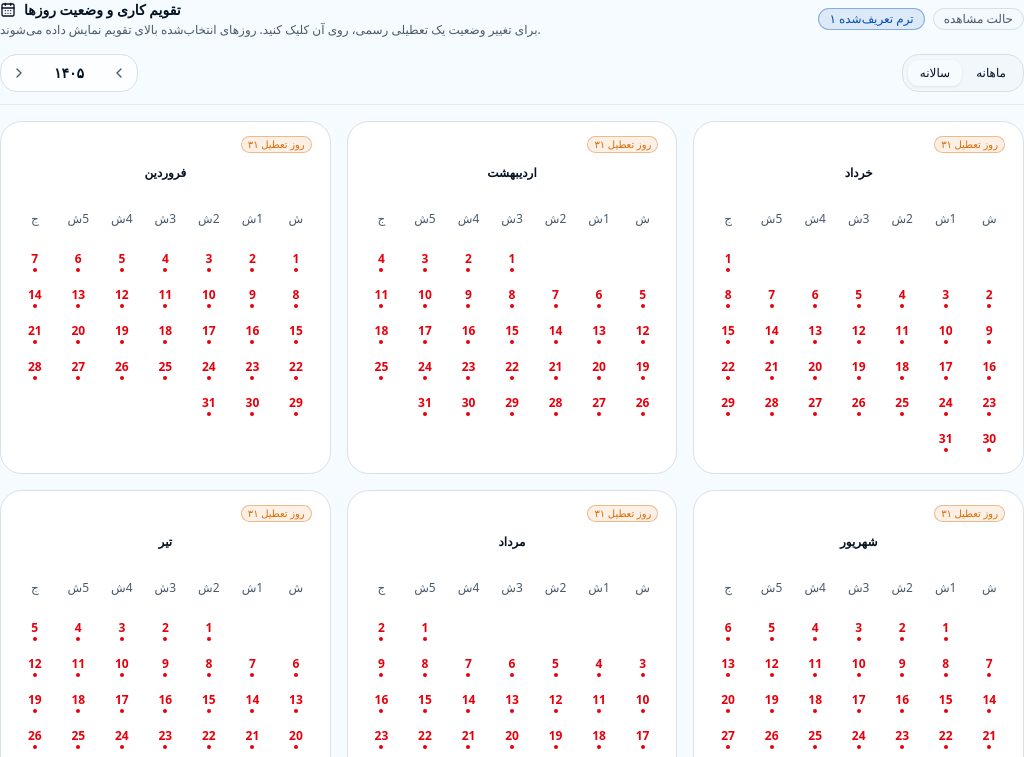
Test: HolidaysCalendar Component › opens day details modal on day click instead of editing off-days
The image size is (1024, 757).
What coordinates should you click on to do the following:
click the button "1" below "فروردین"
I would click on:
 (296, 259)
Its box is top-left (280, 243), bottom-right (312, 275).
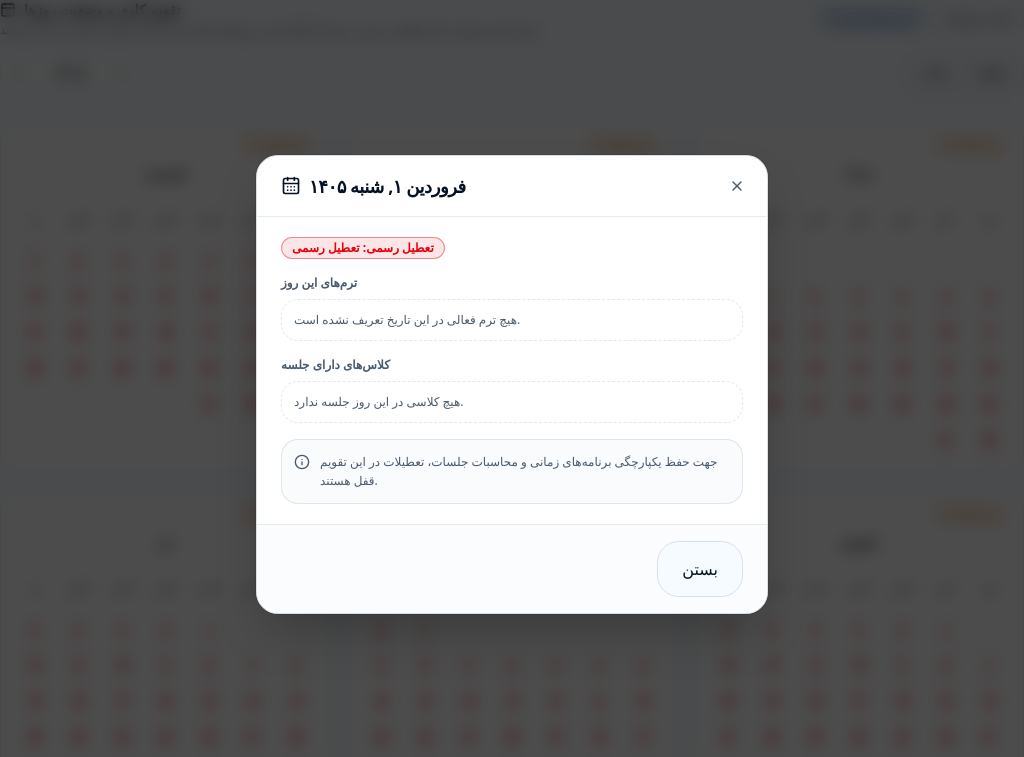
Expected: the text "ترم‌های این روز" is shown, top-left (281, 274), bottom-right (357, 290)
Expected: the text "کلاس‌های دارای جلسه" is shown, top-left (281, 356), bottom-right (390, 372)
Expected: the text "تعطیلات در این تقویم قفل هستند" is shown, top-left (320, 452), bottom-right (718, 489)
Note: Close the details modal
What coordinates should you click on to do the following:
click the button "بستن"
I would click on:
 (700, 568)
Its box is top-left (657, 540), bottom-right (743, 596).
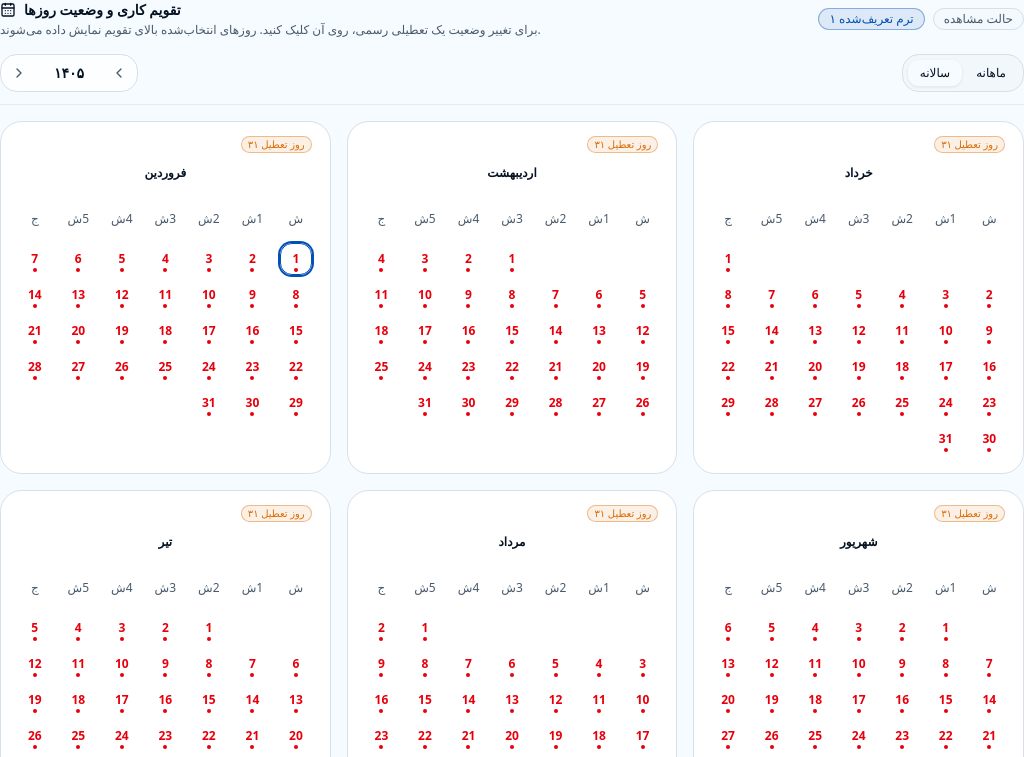
Expected: the text "ترم‌های این روز" is gone
